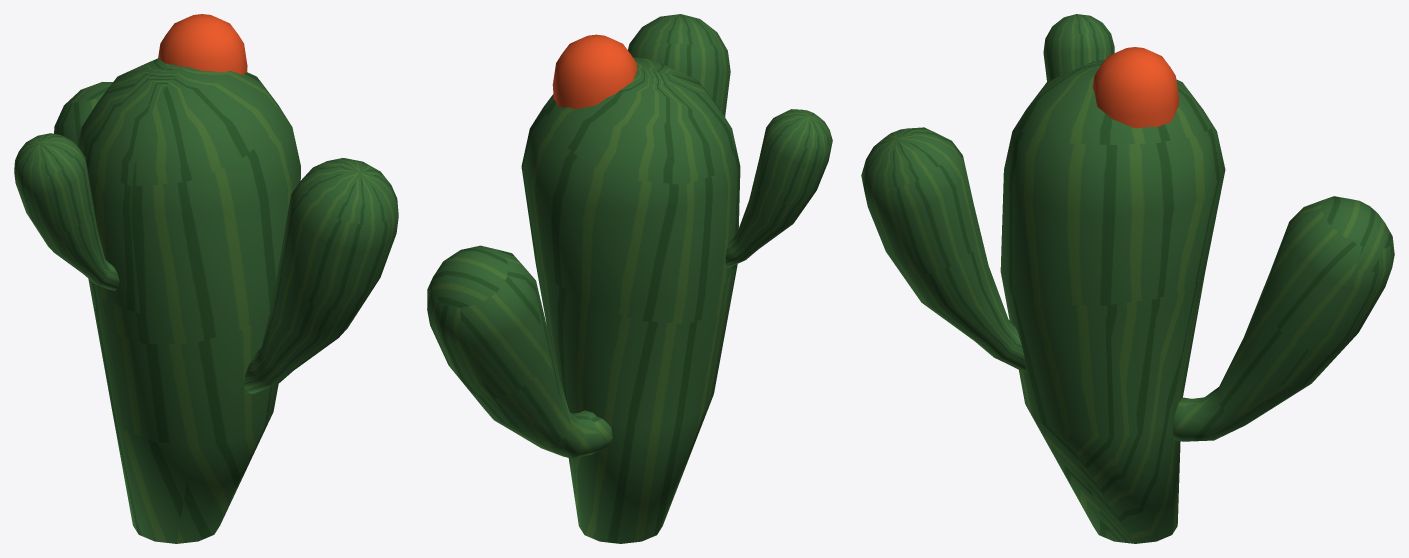
Rendered from cactus.glb.
The picture shows the model from 3 angles, left to right: view 1: azimuth 30°, elevation 25°; view 2: azimuth 150°, elevation 25°; view 3: azimuth 270°, elevation 25°; orthographic projection. The views are drawn at different scales.
Parts seen in each view (by area): view 1: Sphere, Sphere.001, Sphere.003, Sphere.004, Sphere.002; view 2: Sphere, Sphere.002, Sphere.003, Sphere.001, Sphere.004; view 3: Sphere, Sphere.002, Sphere.001, Sphere.004, Sphere.003.
Part boxes in pixels (x1=…): Sphere: x1=77, y1=58, x2=300, y2=543; Sphere.001: x1=244, y1=158, x2=398, y2=393; Sphere.003: x1=14, y1=133, x2=119, y2=290; Sphere.004: x1=158, y1=14, x2=247, y2=74; Sphere.002: x1=54, y1=82, x2=112, y2=145; Sphere: x1=521, y1=57, x2=740, y2=543; Sphere.002: x1=427, y1=245, x2=612, y2=458; Sphere.003: x1=725, y1=109, x2=832, y2=267; Sphere.001: x1=628, y1=14, x2=730, y2=116; Sphere.004: x1=552, y1=34, x2=637, y2=109; Sphere: x1=1000, y1=60, x2=1225, y2=543; Sphere.002: x1=1173, y1=196, x2=1394, y2=441; Sphere.001: x1=861, y1=127, x2=1025, y2=372; Sphere.004: x1=1092, y1=47, x2=1179, y2=128; Sphere.003: x1=1043, y1=14, x2=1114, y2=81.
Size of the model in its own units: 1.63 by 2.7 by 2.68.
3 materials, 2 textured.
